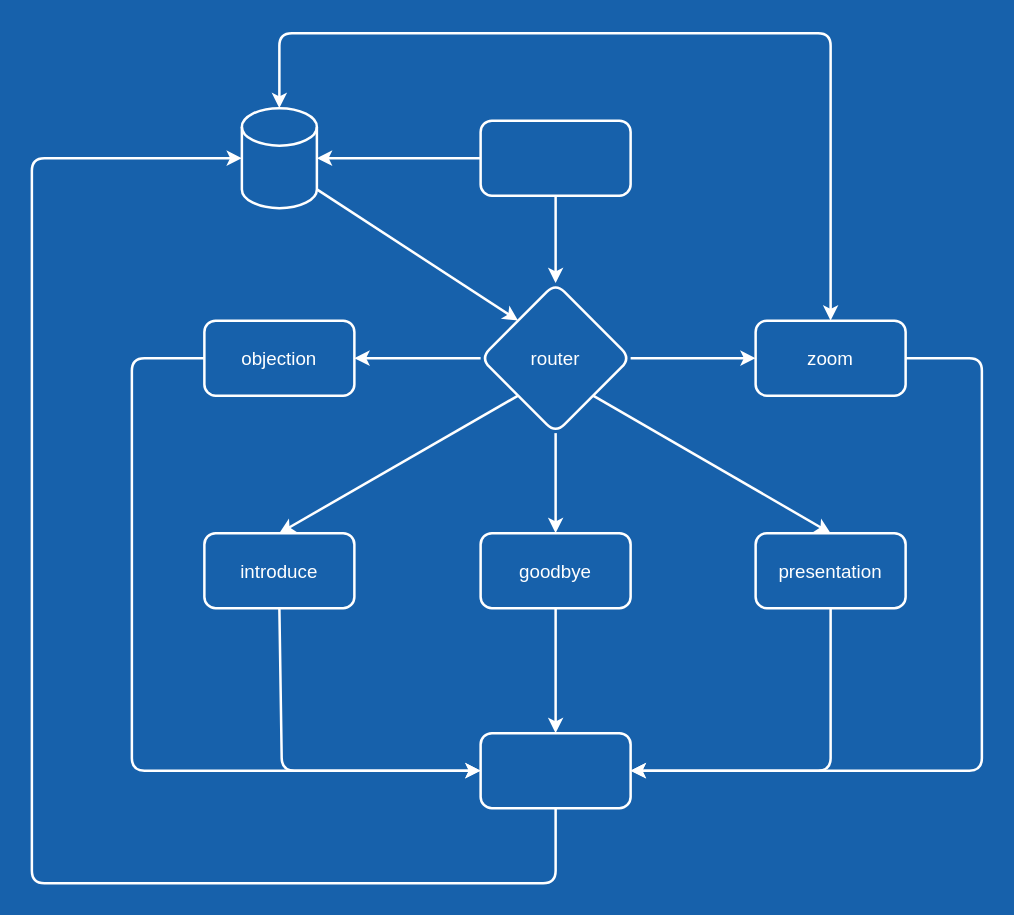
This 1014x915 diagram has some shape labels left out. Each missing label, with the box of its shape:
answer: (479, 731, 631, 809)
SQL base: (240, 106, 318, 209)
start: (479, 119, 631, 196)
